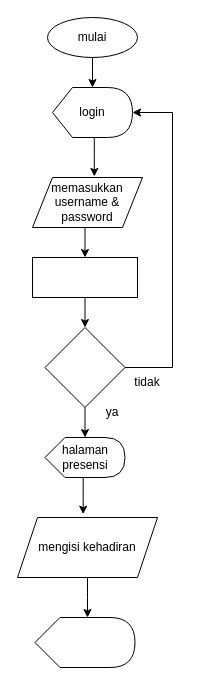
Some shapes in this 198 by 685 pixel diagram are drawn without their labels. The shapes that lost their labels are listed below. From the top down, each one's centre as x and y in pixels, then its label:
pixel 85 277: verifikasi data
pixel 84 367: berhasil
pixel 84 642: halaman riwayat kehadiran
